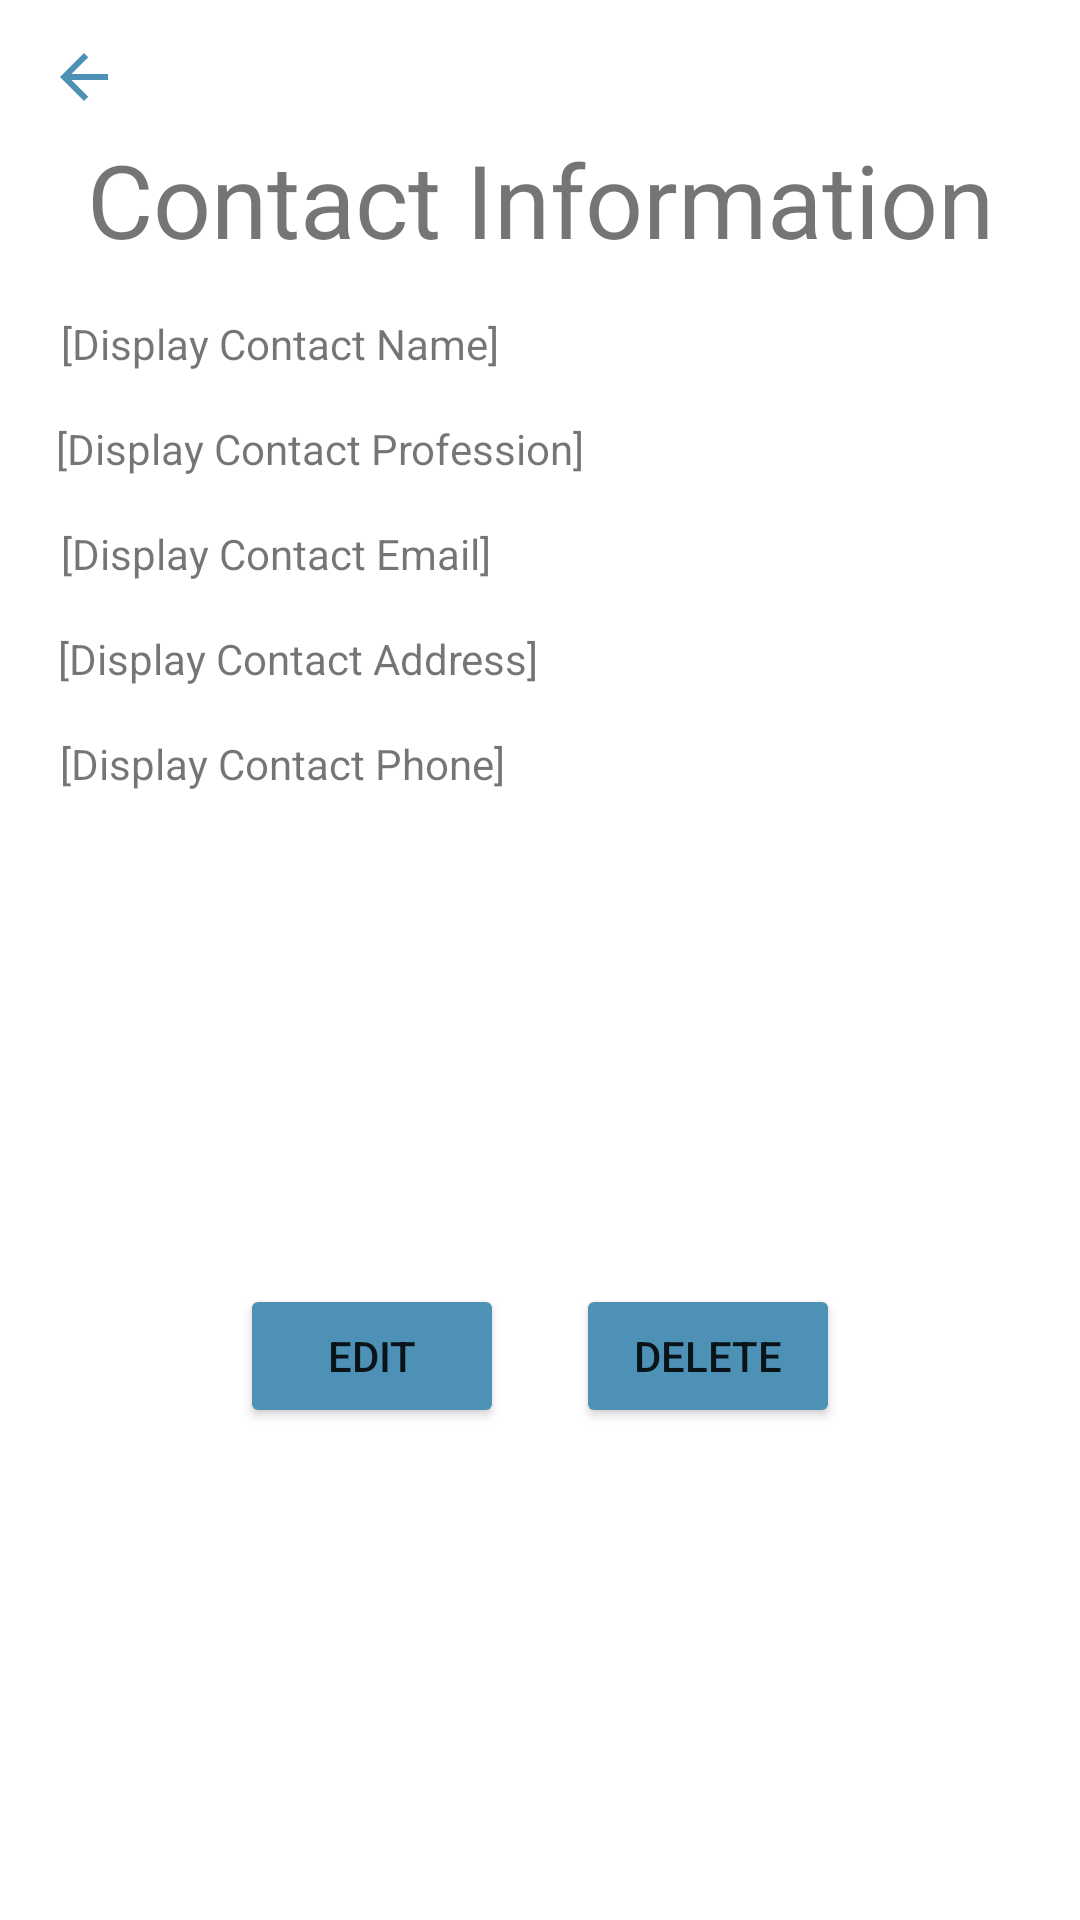

Screen size 1080 × 1920. Icon name, then its center in pixels as (x,y):
Return to previous page: (84,77)
